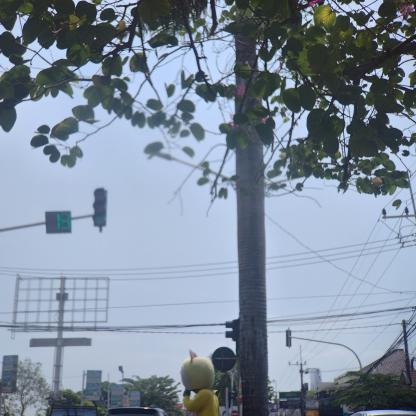green: (92, 188, 108, 227)
